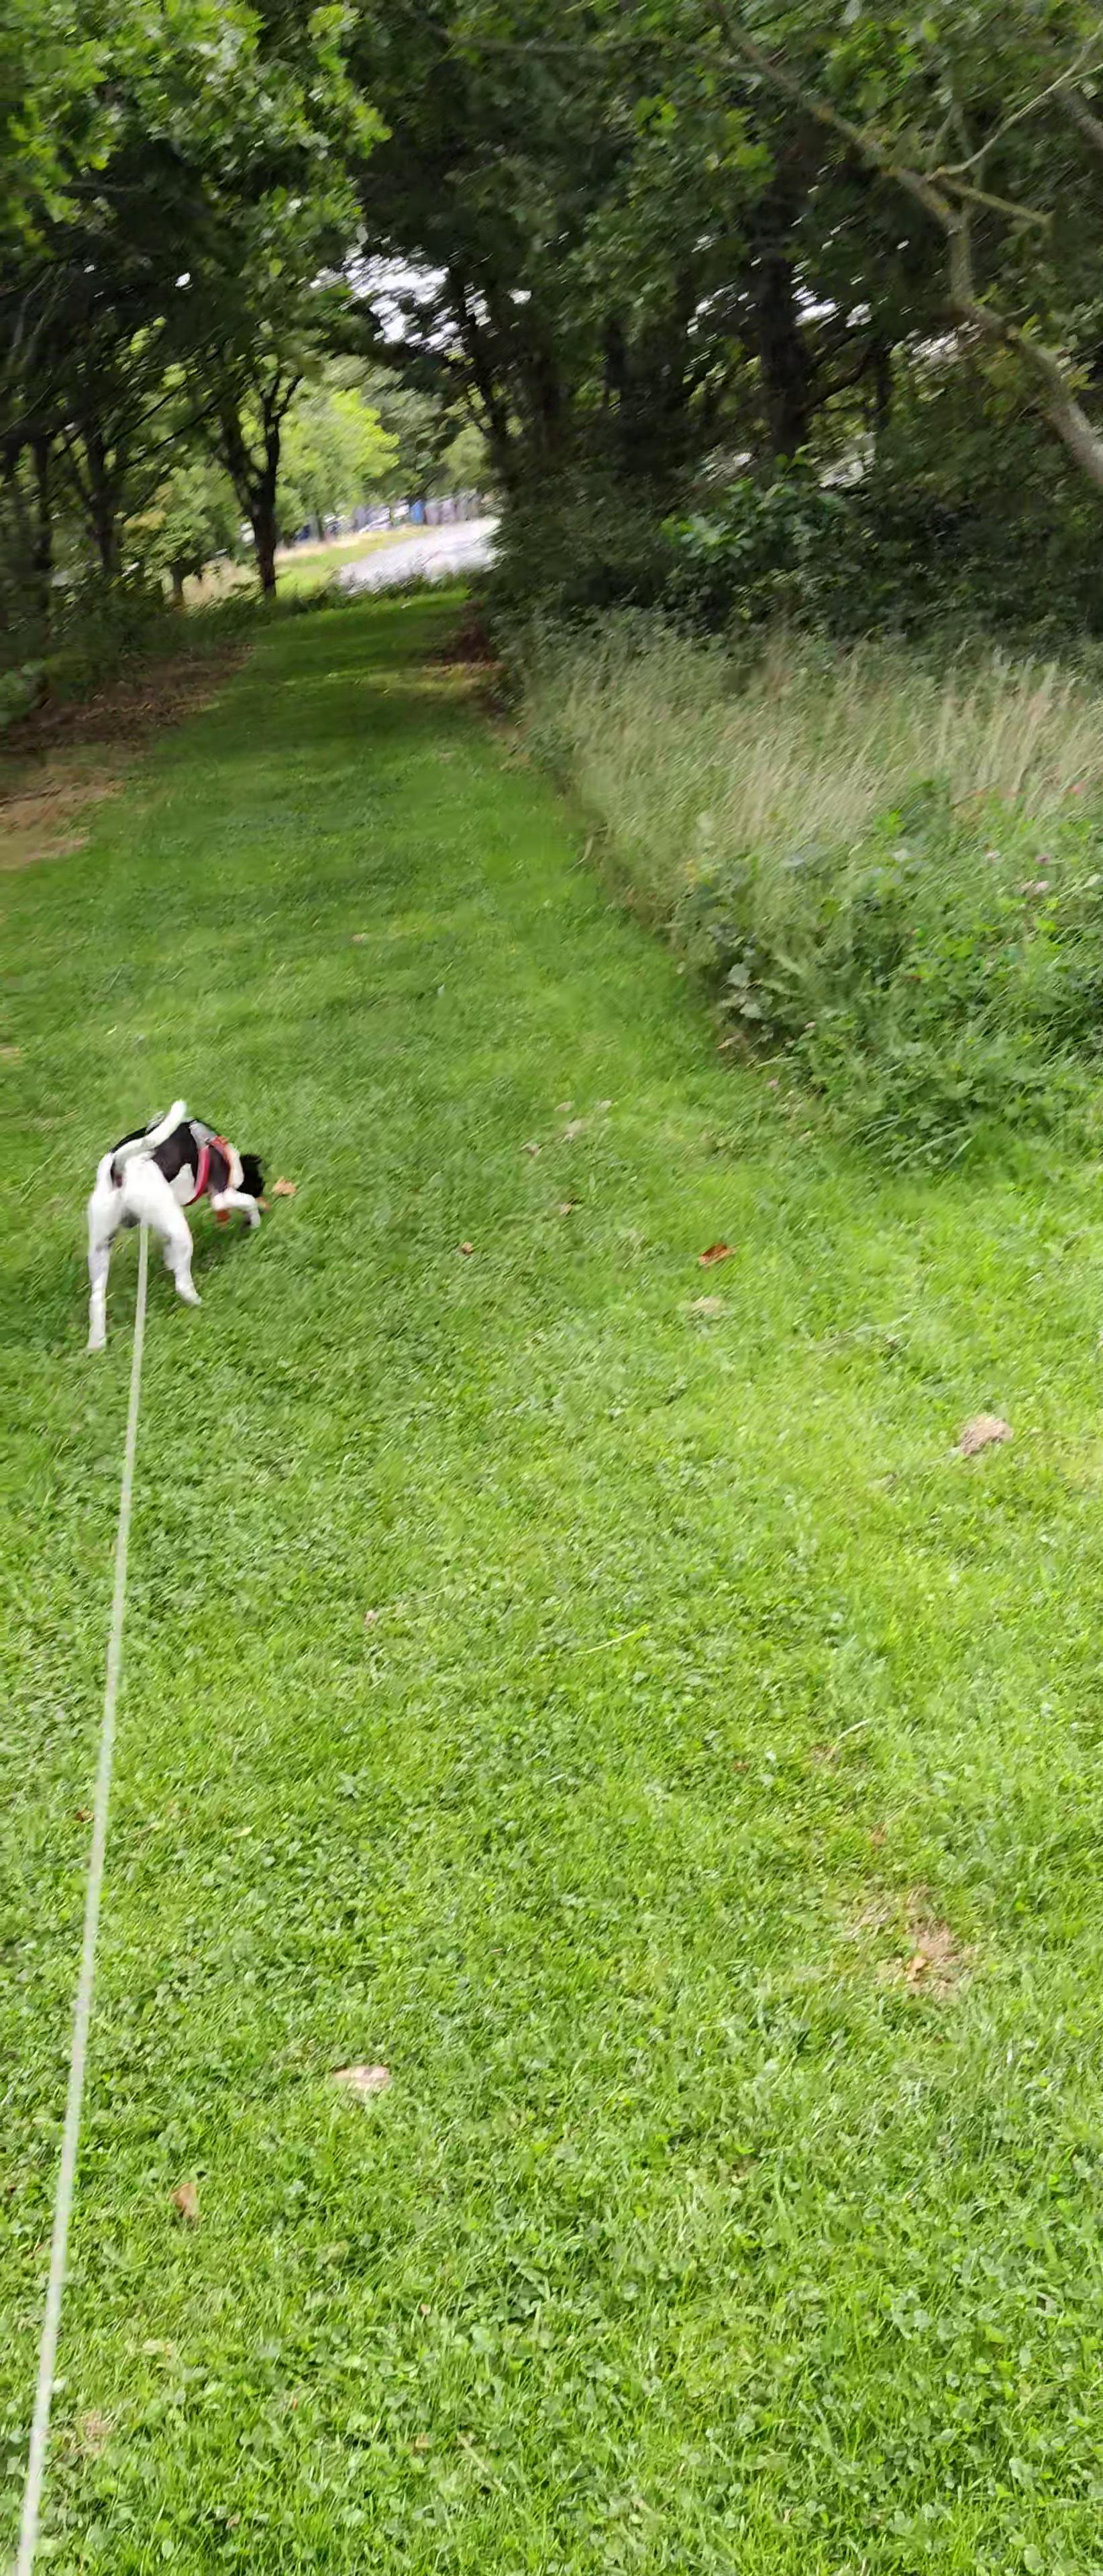Dog: (66, 1078, 289, 1365)
